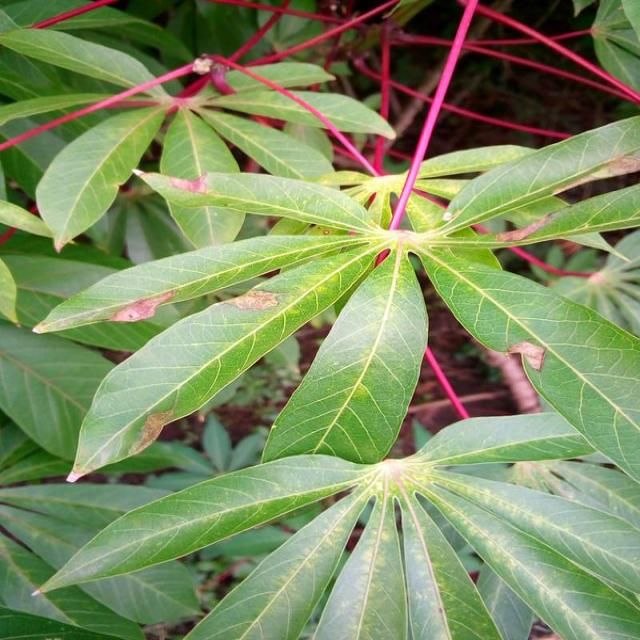cassava leaf: (14, 3, 638, 637), (259, 244, 429, 467)
